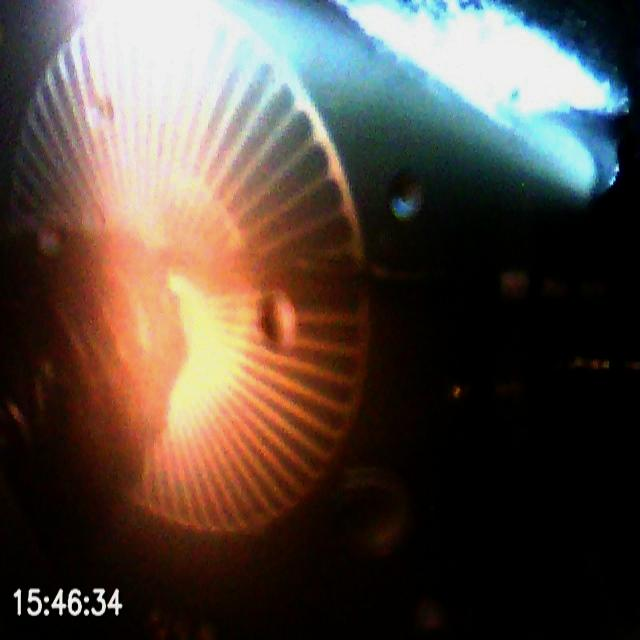white-dots: (496, 266, 613, 308)
